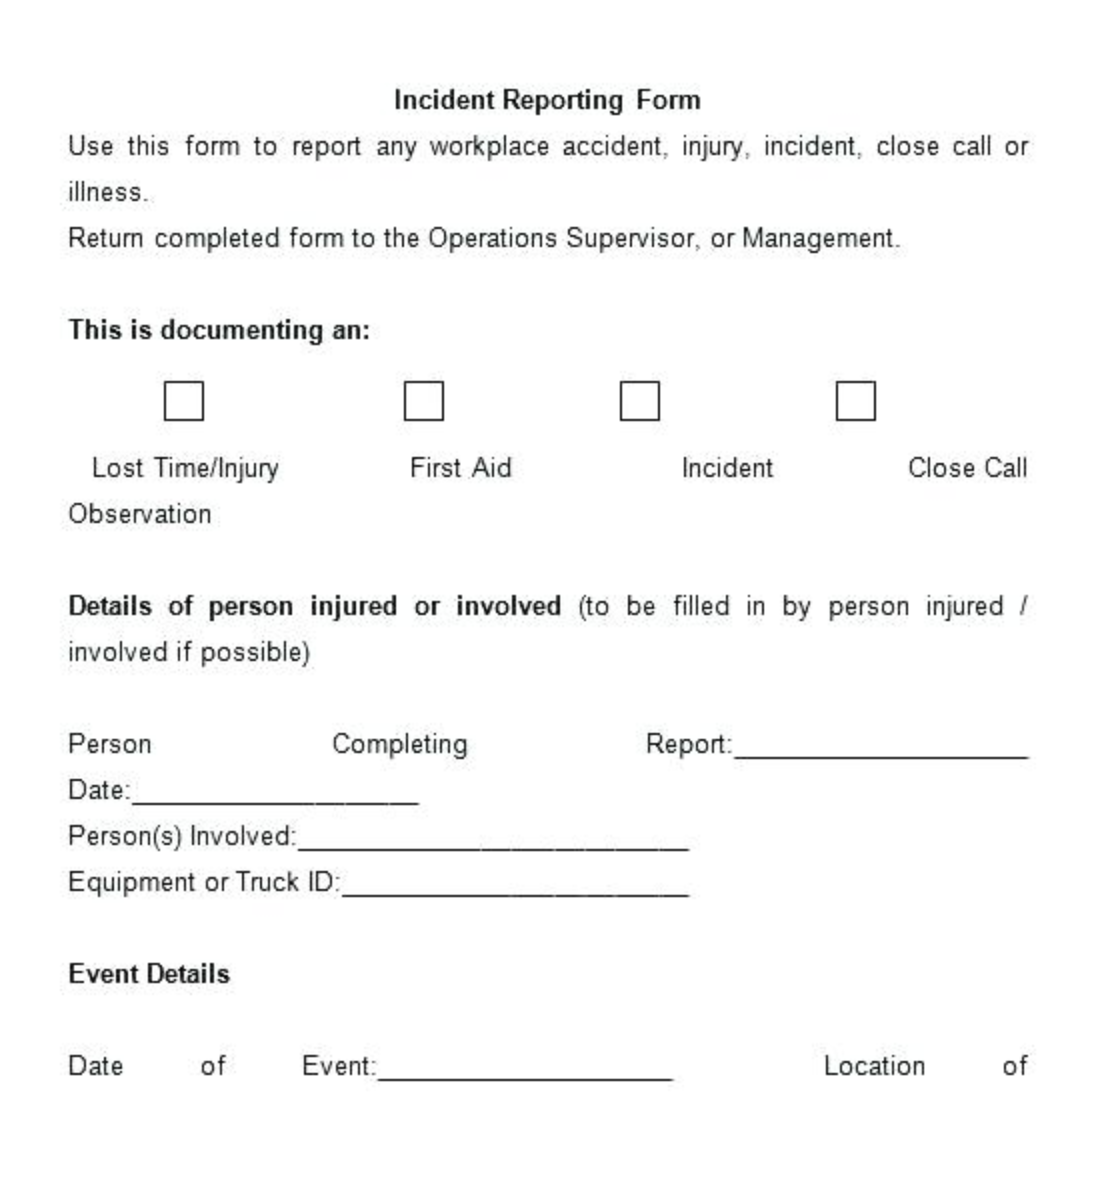checkbox: (610, 373, 676, 433), (827, 373, 887, 430), (391, 375, 453, 426), (158, 376, 213, 428)
textline: (375, 1039, 684, 1093), (733, 721, 1046, 771), (294, 818, 696, 857), (336, 863, 696, 904), (130, 770, 432, 813)
